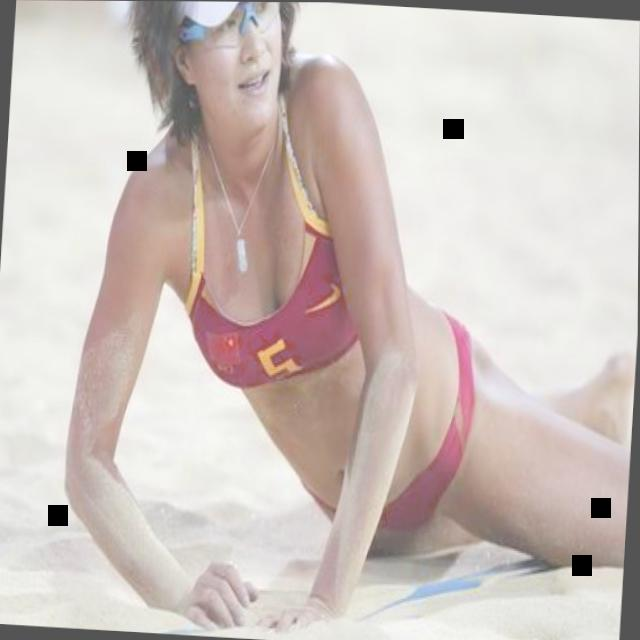Fall-Detected: (3, 0, 640, 640)
